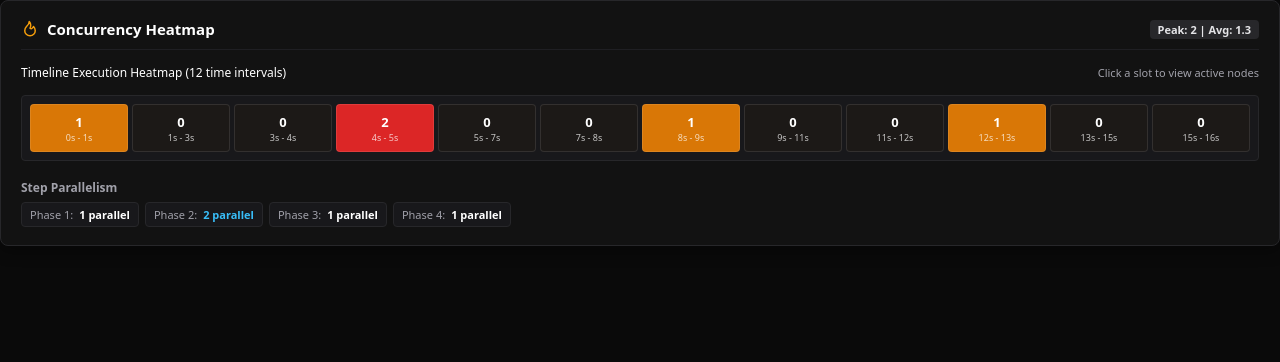
Test: Analytics Dashboard & Telemetry Store › AnalyticsDashboard Component Hierarchy › handles interaction in ConcurrencyHeatmapCard by clicking a slot
Click the element with test id "concurrency-slot-0".
click(79, 128)  # box left=30, top=104, right=128, bottom=152
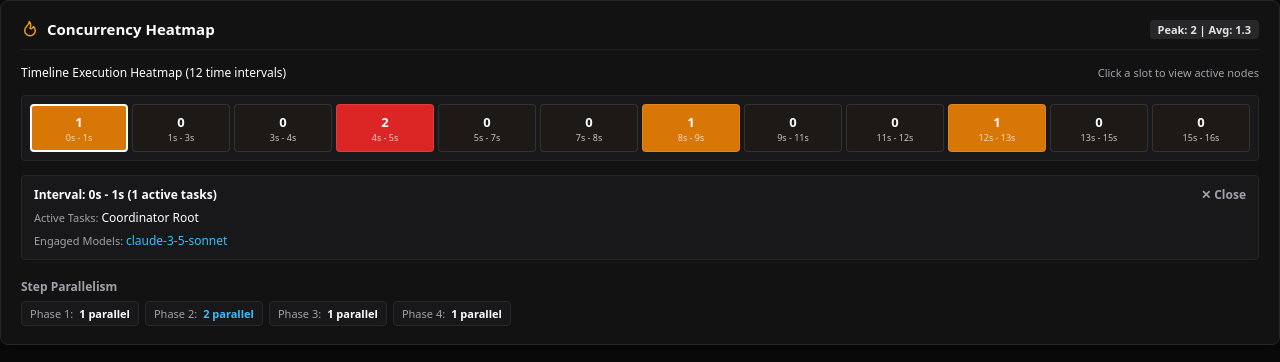
Check: the element with test id "concurrency-slot-detail" is shown, box left=21, top=175, right=1259, bottom=260
